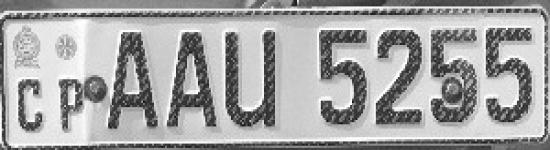2: (372, 21, 426, 133)
5: (308, 19, 372, 131), (480, 17, 539, 132), (427, 23, 481, 130)
A: (100, 23, 164, 136), (164, 20, 221, 137)
C: (11, 73, 51, 139)
P: (50, 73, 90, 137)
U: (219, 19, 288, 136)
